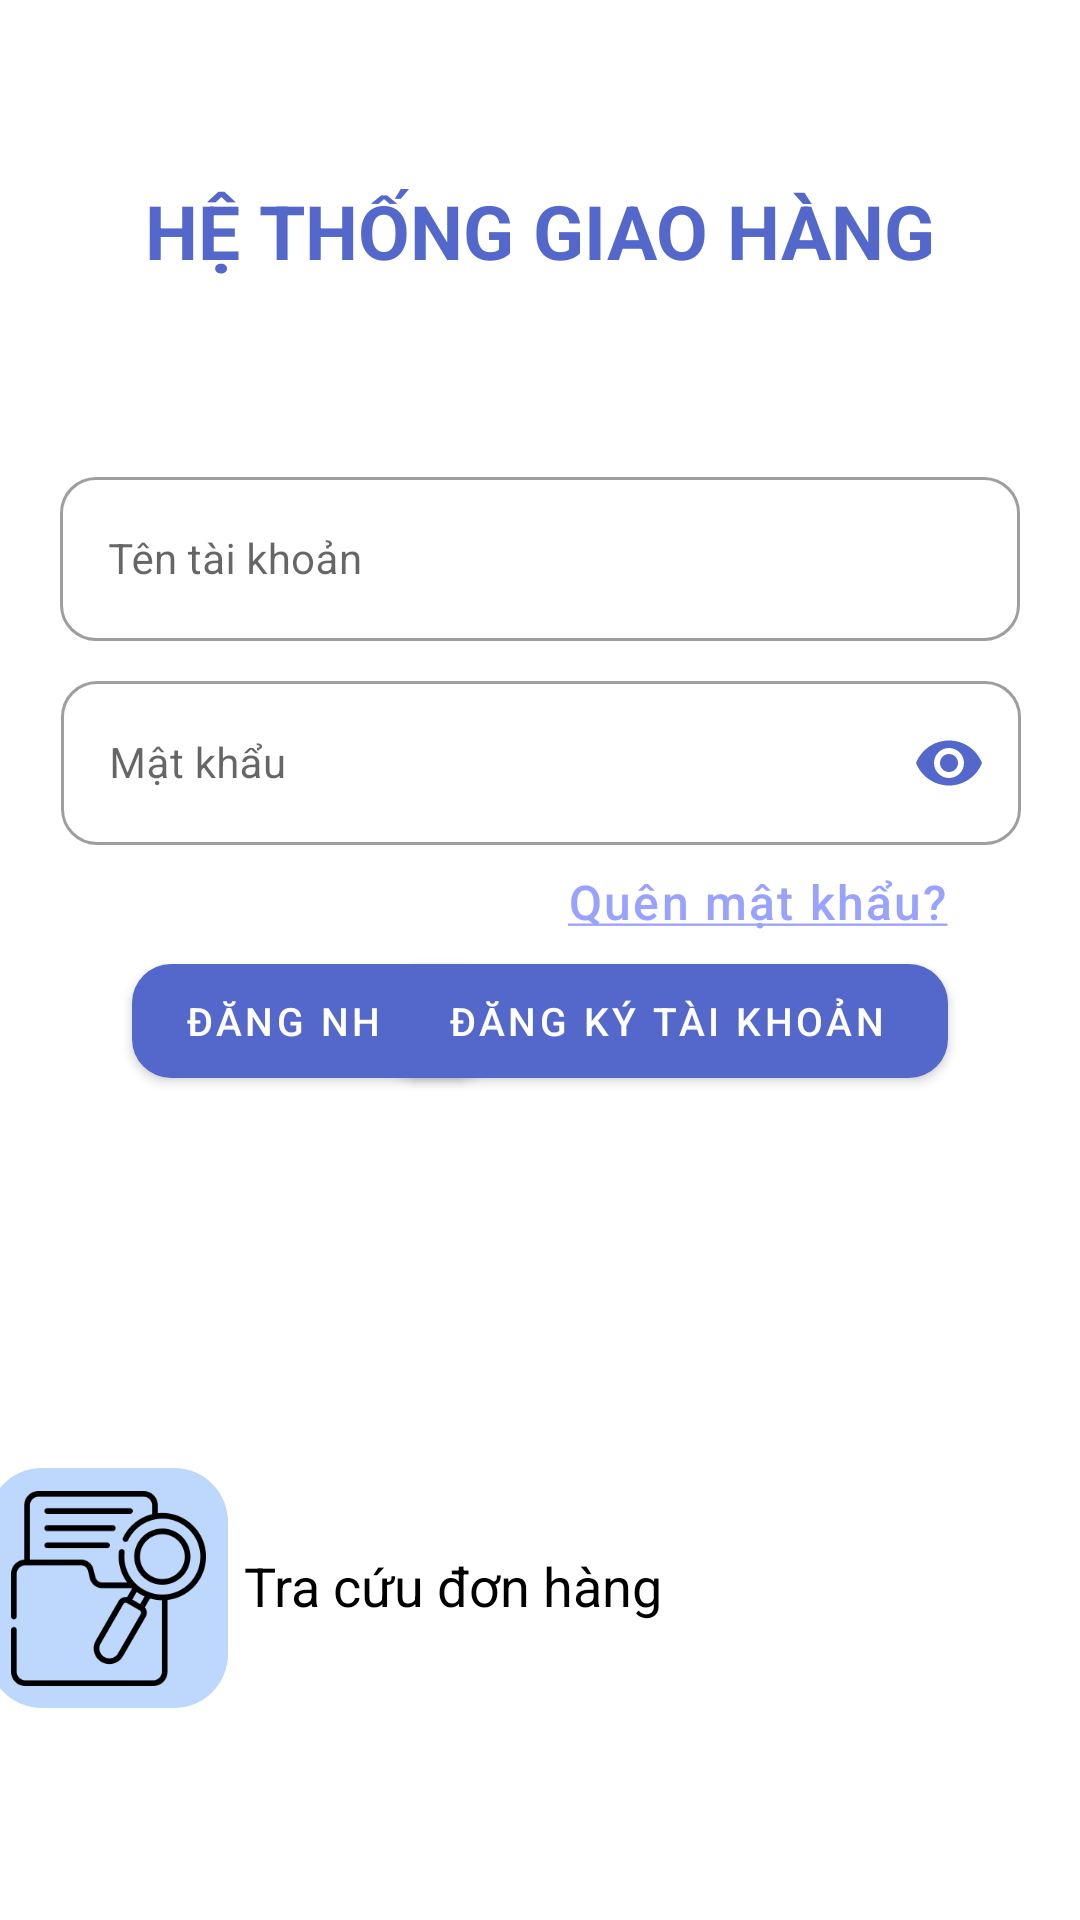

Screen size 1080px×1920px. Icon name, then its box in pixels as (x1, y1, x2, y2):
search slip: (0, 1468, 228, 1708)
